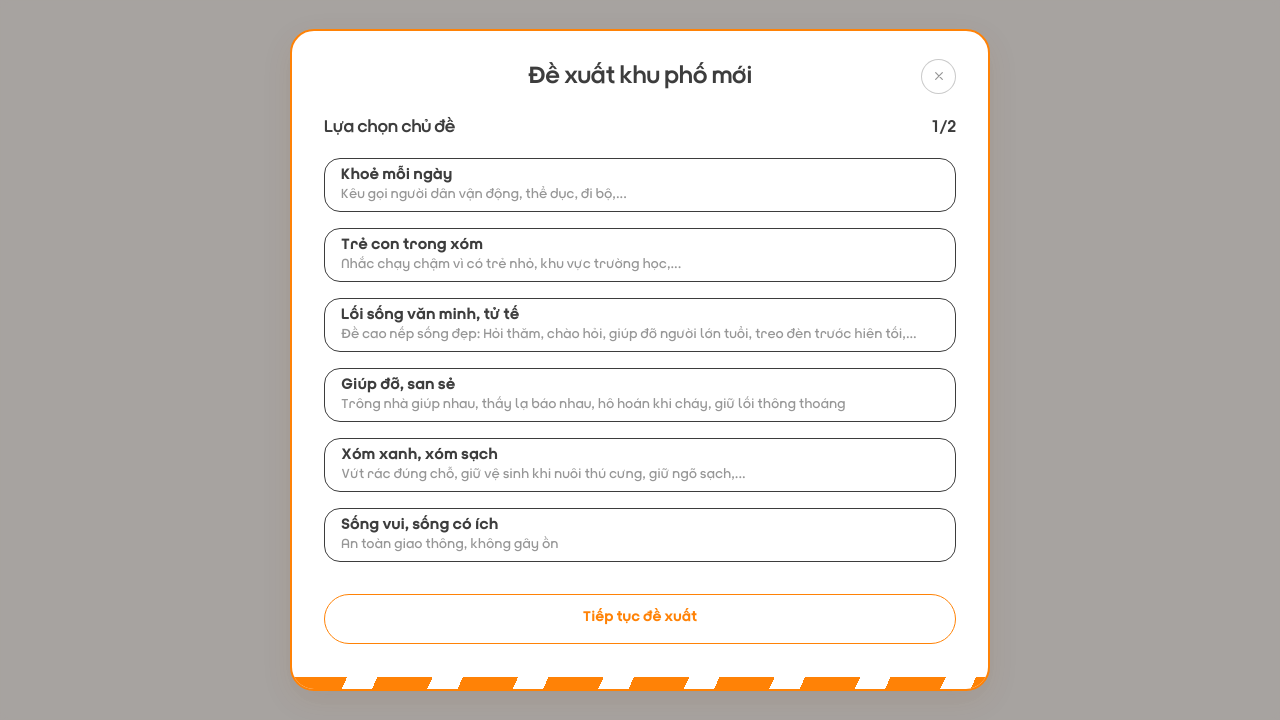
Test: ProposeModal — bước 1/2 chọn chủ đề › chưa chọn chủ đề thì báo lỗi, không sang bước 2
The image size is (1280, 720).
Click the button "Tiếp tục đề xuất" at (640, 619), box [324,594,956,644]
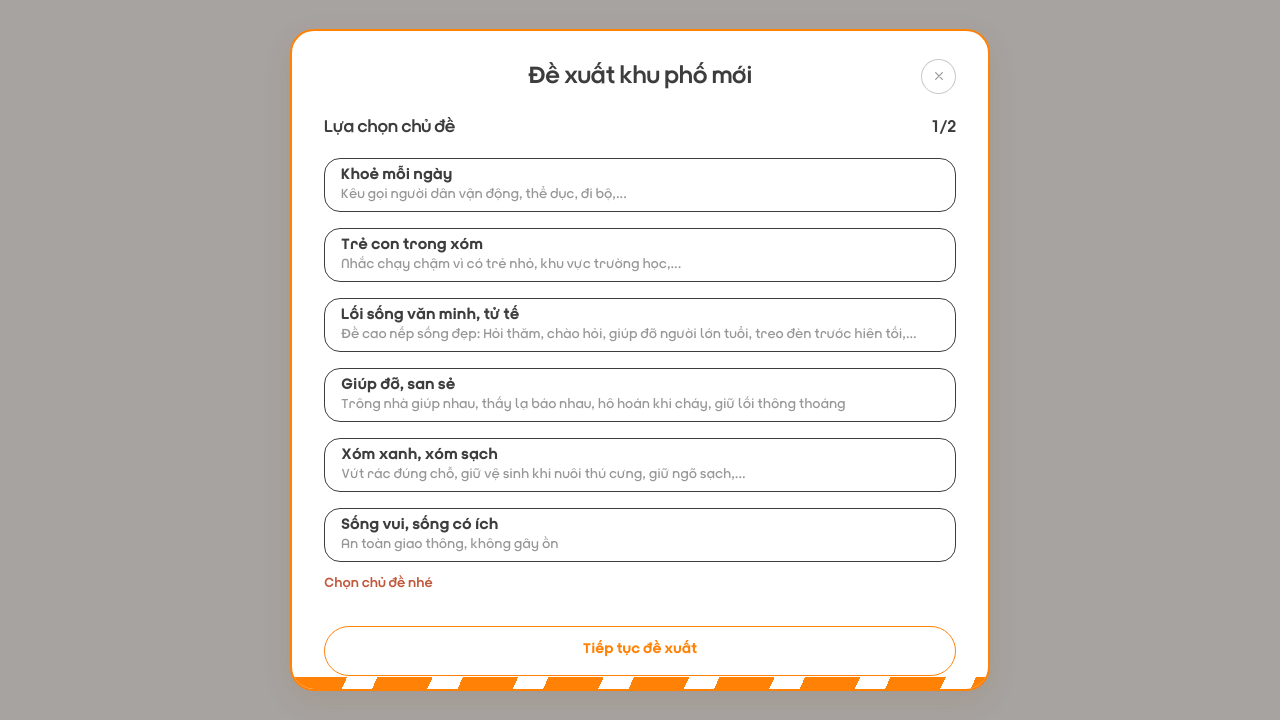
Check: the text "Chọn chủ đề nhé" is shown, box [324,576,433,591]
